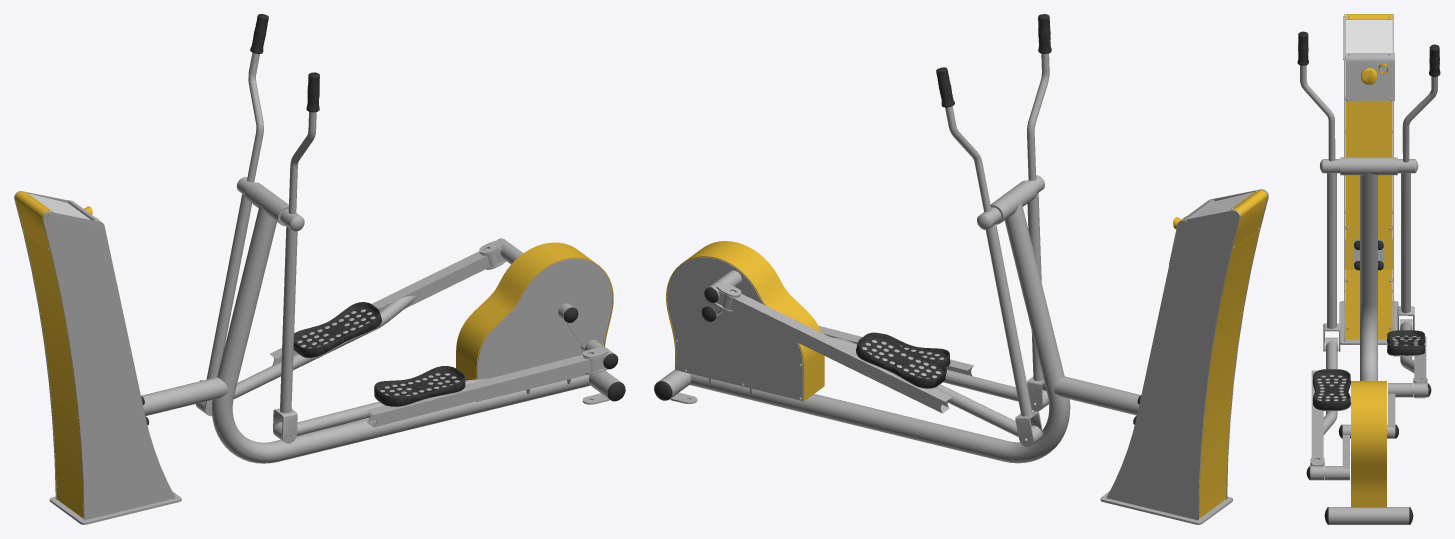
The model's file is USB-01.glb.
3 renders of one model, left to right at view 1: azimuth 30°, elevation 25°; view 2: azimuth 150°, elevation 25°; view 3: azimuth 270°, elevation 25°, orthographic. The views are drawn at different scales.
Parts seen in each view (by area): view 1: Geom3D (×3); view 2: Geom3D (×3); view 3: Geom3D (×4).
Part boxes in pixels (x1,y1,x2,y2): Geom3D (×3): (14,14,625,524); Geom3D (×3): (654,14,1268,524); Geom3D (×4): (1297,14,1440,524).
Size of the model in its own units: 2.4 by 1.66 by 0.6009.
